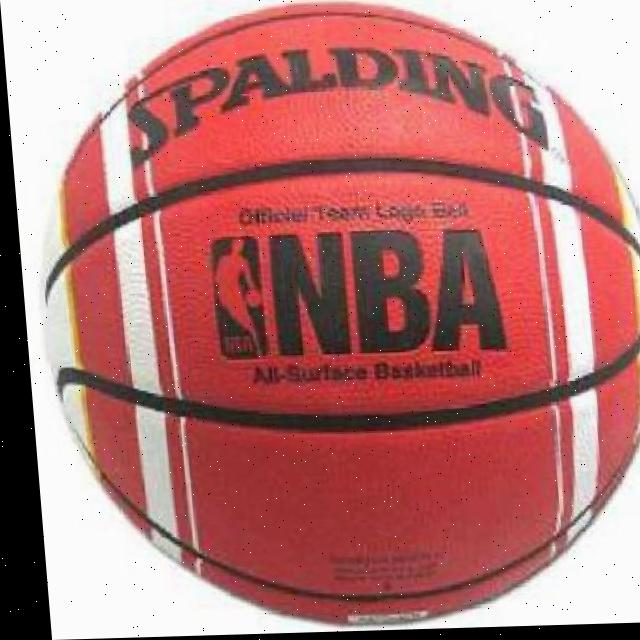Basketball: (16, 0, 640, 634)
